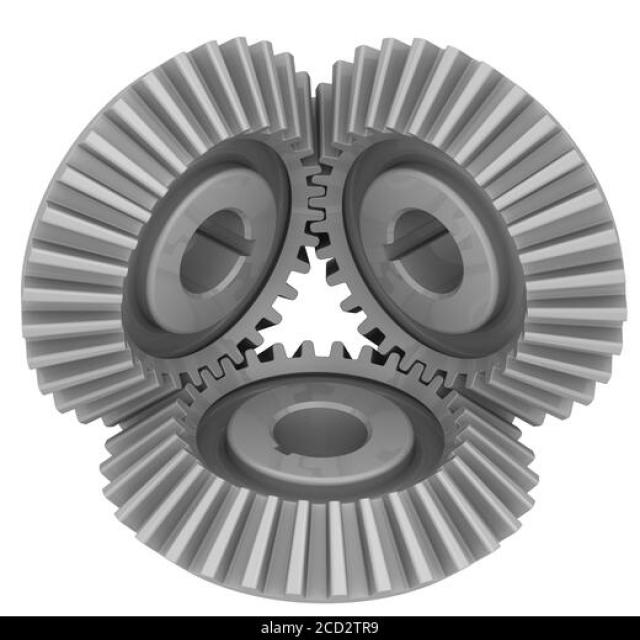Gear: (306, 30, 632, 442), (18, 36, 324, 438), (101, 338, 543, 608)
